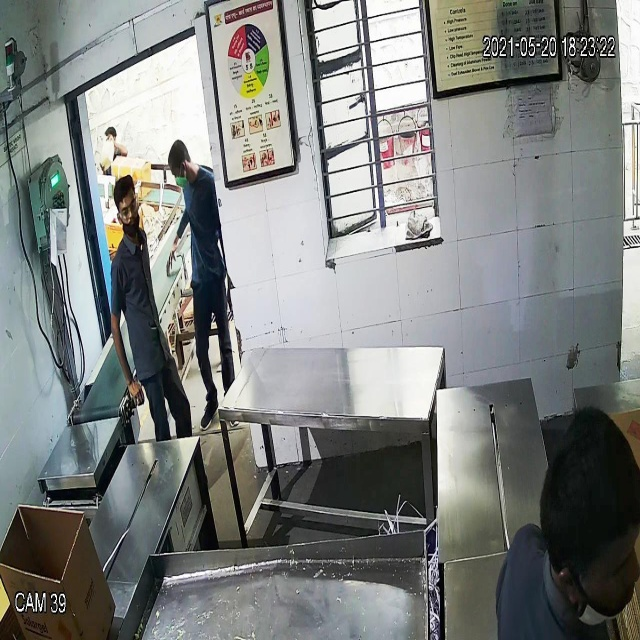Gafas: (114, 196, 141, 223)
